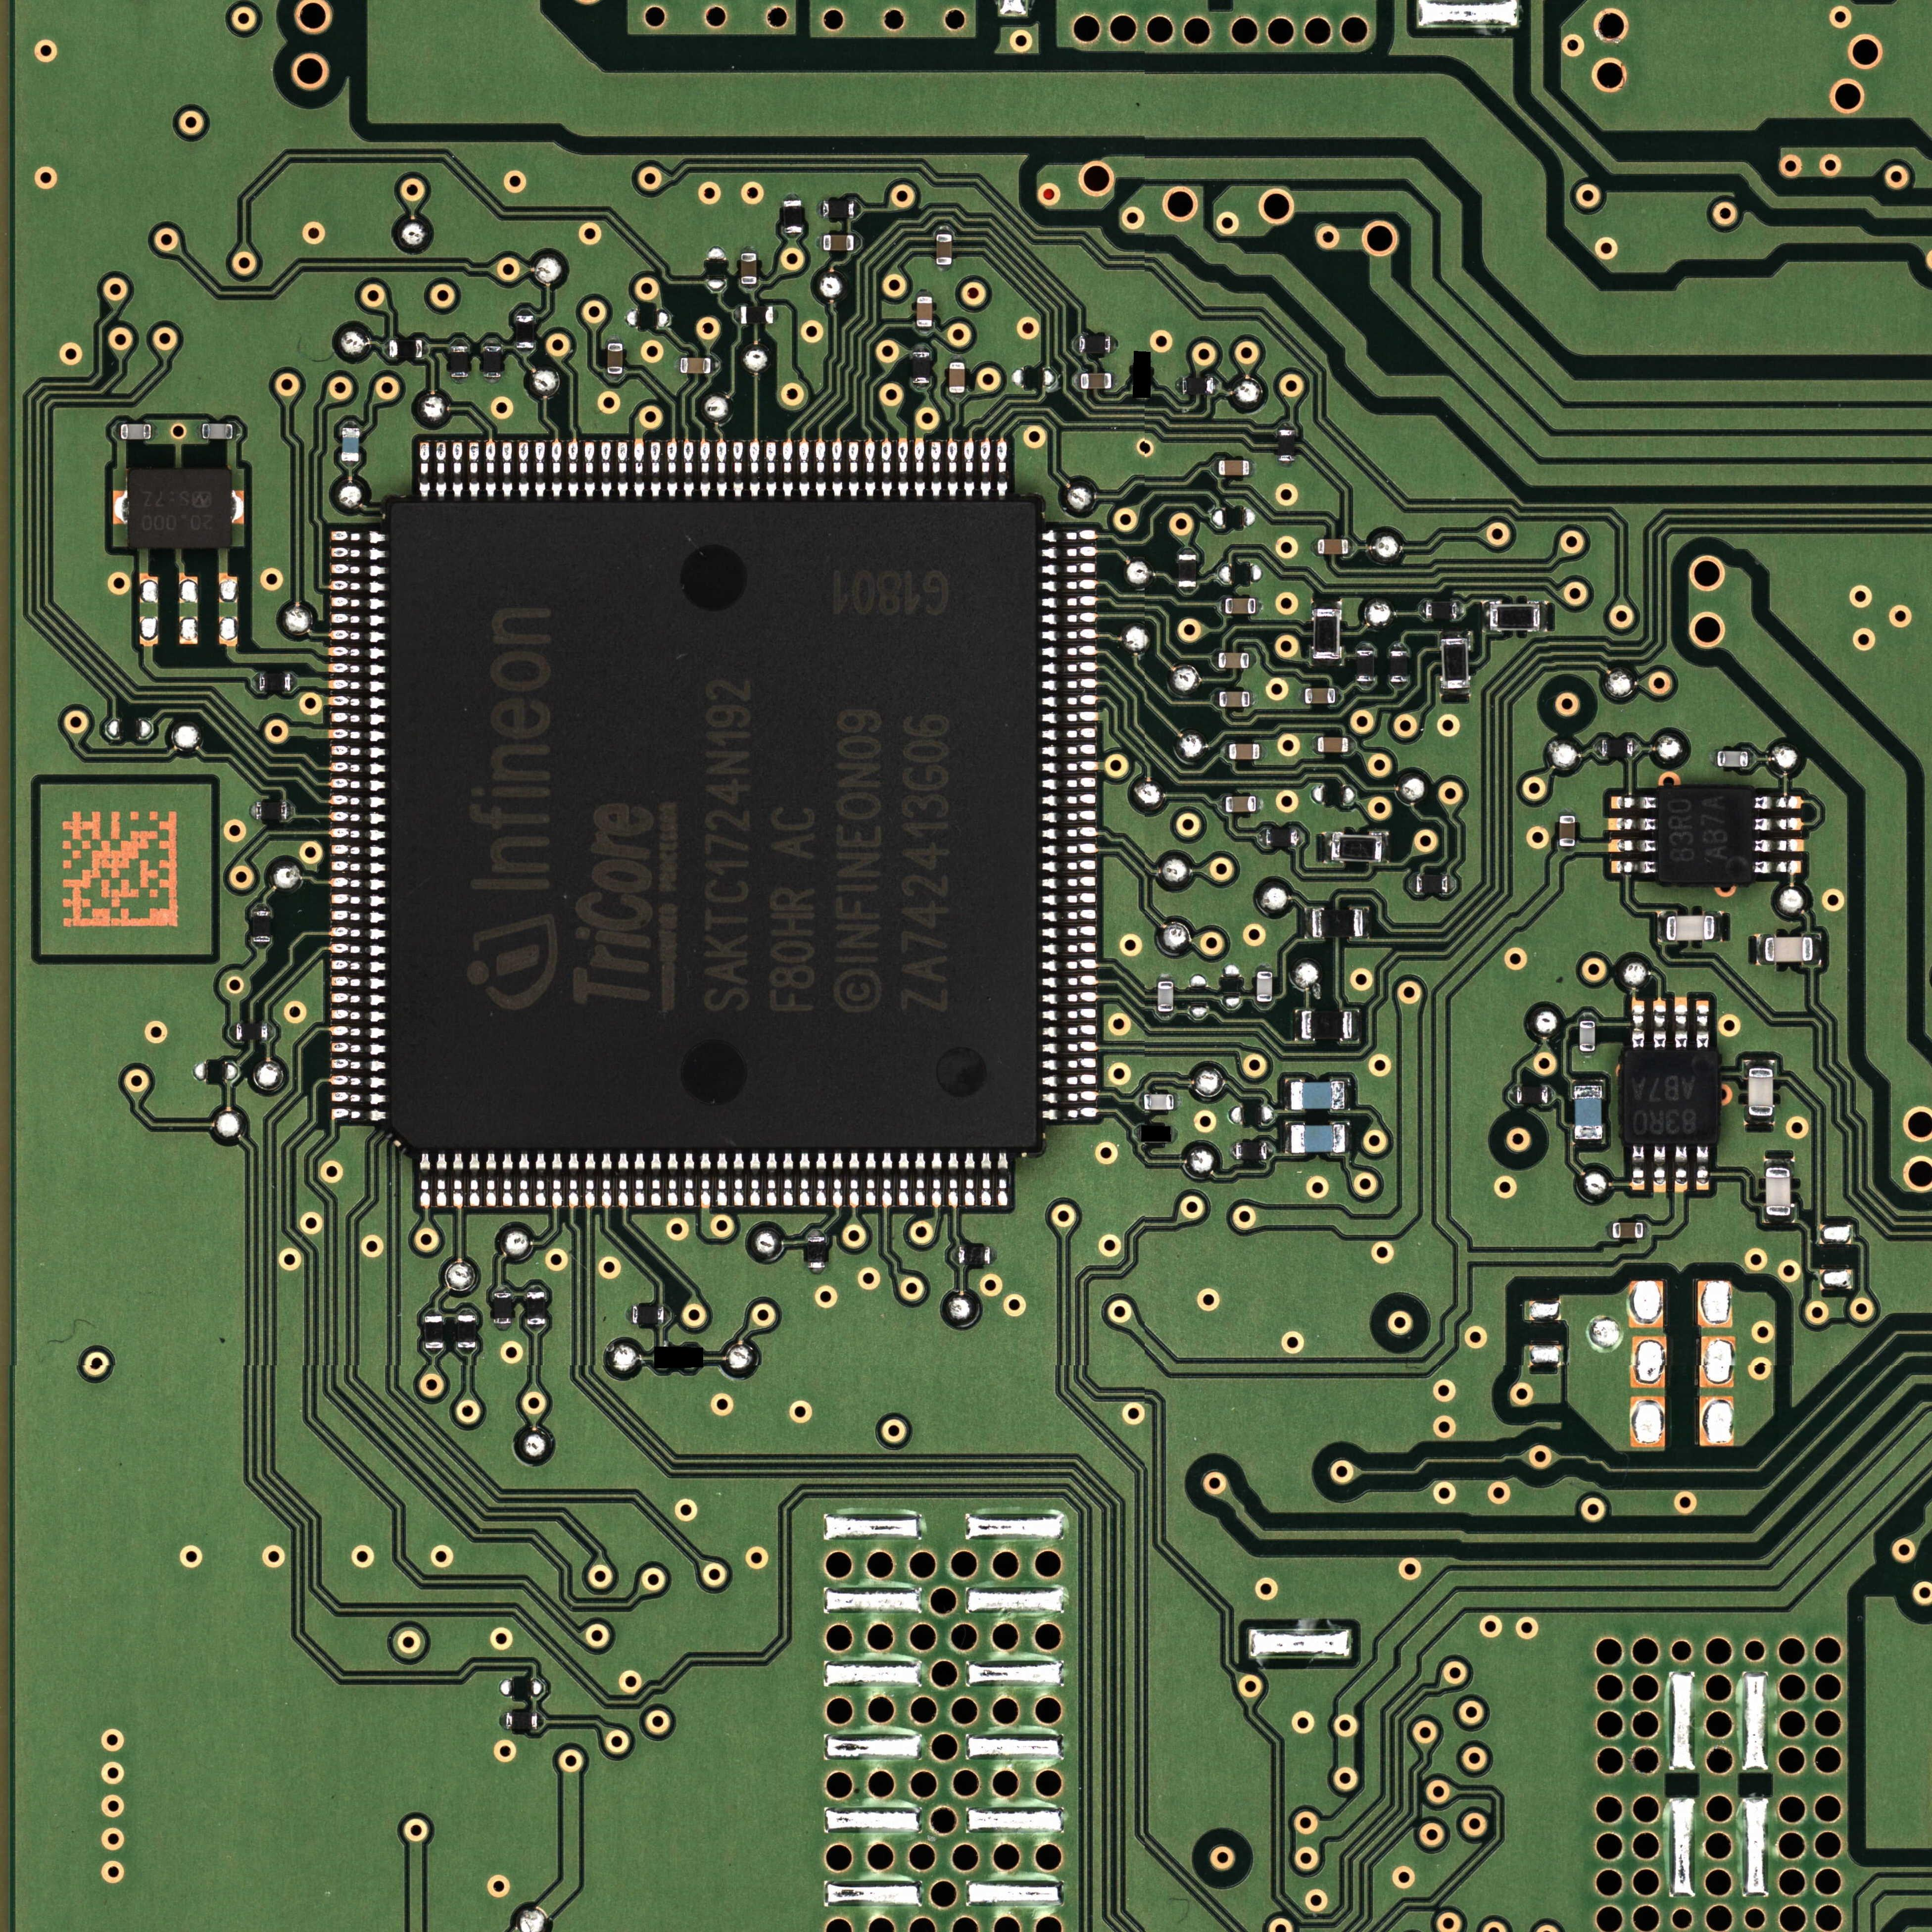Package: (387, 497, 1040, 1150), (1656, 787, 1753, 883), (1622, 1049, 1720, 1145), (127, 469, 232, 548), (1290, 1081, 1345, 1109), (1300, 1010, 1352, 1040), (1292, 1123, 1345, 1152), (1575, 1086, 1601, 1139), (1313, 909, 1362, 938), (1332, 833, 1382, 862), (1490, 603, 1539, 630), (1667, 915, 1714, 941), (1315, 609, 1339, 658), (1442, 639, 1467, 688), (1766, 1168, 1790, 1215), (1764, 938, 1812, 962), (1748, 1069, 1773, 1116), (515, 315, 534, 349), (525, 1292, 545, 1325), (456, 1315, 476, 1348), (1178, 554, 1198, 587), (784, 200, 803, 232), (251, 911, 271, 943), (959, 1246, 991, 1265), (1601, 738, 1633, 757), (1265, 828, 1297, 847), (1235, 1141, 1267, 1161), (341, 428, 359, 462), (389, 340, 423, 357), (740, 306, 773, 324), (483, 347, 502, 377), (449, 347, 469, 377), (913, 352, 931, 384), (255, 801, 287, 819), (258, 674, 290, 692), (425, 1316, 442, 1348), (506, 1713, 538, 1730), (807, 1237, 824, 1269), (1277, 430, 1295, 462), (1182, 377, 1214, 395), (1391, 651, 1408, 683), (1415, 876, 1447, 893), (1426, 602, 1458, 619), (1516, 1086, 1548, 1104), (823, 200, 853, 218), (494, 1293, 511, 1323), (237, 1023, 267, 1040), (633, 1306, 663, 1323), (1357, 651, 1375, 681), (936, 234, 952, 265), (823, 235, 855, 251), (1224, 598, 1256, 614), (1304, 688, 1336, 704), (1612, 1223, 1644, 1238), (202, 423, 232, 439), (607, 343, 623, 373), (916, 297, 932, 327), (681, 357, 711, 373), (741, 253, 757, 283), (1226, 796, 1256, 812), (1219, 653, 1249, 669), (1079, 336, 1109, 352), (1081, 373, 1111, 389), (948, 363, 964, 393), (1718, 750, 1748, 766), (1219, 692, 1249, 708), (1230, 743, 1260, 759), (1219, 460, 1249, 476), (1559, 816, 1575, 846), (1256, 971, 1272, 1001), (1157, 982, 1173, 1012), (1145, 1093, 1173, 1109), (120, 425, 150, 439), (1318, 738, 1348, 752), (1318, 540, 1348, 554), (1580, 1021, 1594, 1051)
Solder: (1042, 1090, 1097, 1104), (1042, 1074, 1097, 1088), (1042, 991, 1097, 1005), (897, 437, 909, 499), (748, 439, 761, 499), (798, 439, 810, 499), (996, 439, 1008, 499), (451, 442, 464, 501), (329, 794, 387, 807), (329, 695, 387, 708), (329, 679, 387, 692), (329, 646, 387, 658), (331, 531, 389, 543), (331, 547, 389, 559), (329, 580, 387, 593), (329, 943, 387, 955), (331, 1092, 389, 1104), (847, 441, 860, 499), (947, 441, 959, 499), (485, 441, 497, 499), (931, 1150, 943, 1208), (331, 844, 387, 856), (331, 893, 387, 906), (331, 596, 387, 609), (331, 1042, 387, 1054), (331, 993, 387, 1005), (633, 1150, 646, 1207), (732, 1150, 745, 1207), (485, 1150, 497, 1207), (881, 1150, 893, 1207), (1040, 909, 1097, 922), (1040, 529, 1097, 541), (1040, 925, 1097, 938), (1040, 547, 1097, 559), (1042, 761, 1097, 773), (1042, 777, 1097, 789), (1042, 860, 1097, 872), (1042, 826, 1097, 839), (1042, 711, 1097, 724), (1042, 678, 1097, 690), (1042, 628, 1097, 640), (1042, 612, 1097, 625), (1042, 596, 1097, 609), (1040, 563, 1095, 575), (1042, 646, 1097, 658), (1042, 579, 1097, 591), (1042, 662, 1097, 674), (980, 1152, 993, 1207), (1042, 1108, 1097, 1120), (1042, 1058, 1097, 1070), (1042, 1042, 1097, 1054), (1042, 1008, 1097, 1021), (1042, 975, 1097, 987), (1042, 959, 1097, 971), (667, 439, 678, 501), (568, 439, 579, 501), (1042, 810, 1095, 823), (1042, 876, 1095, 888), (1042, 727, 1095, 740), (1042, 1024, 1095, 1037), (469, 441, 479, 501), (327, 663, 387, 674), (683, 439, 694, 499), (651, 441, 662, 501), (617, 441, 628, 501), (701, 439, 711, 499), (633, 441, 644, 501), (717, 439, 727, 499), (584, 441, 594, 501), (782, 439, 793, 499), (832, 439, 842, 499), (865, 439, 876, 499), (881, 439, 892, 499), (552, 441, 563, 501), (915, 439, 925, 499), (816, 439, 826, 499), (964, 439, 975, 499), (980, 439, 991, 499), (1631, 1005, 1645, 1049), (1652, 1005, 1667, 1049), (419, 442, 430, 501), (435, 442, 446, 501), (329, 763, 387, 773), (329, 729, 387, 740), (329, 778, 387, 789), (329, 812, 387, 823), (329, 828, 387, 839), (329, 878, 387, 888), (329, 927, 387, 938), (329, 630, 387, 640), (331, 564, 389, 575), (331, 1109, 389, 1120), (453, 1150, 464, 1208), (329, 1026, 387, 1037), (419, 1150, 430, 1208), (602, 442, 612, 501), (732, 441, 743, 499), (766, 441, 777, 499), (534, 442, 545, 501), (518, 442, 529, 501), (931, 441, 941, 499), (701, 1150, 711, 1208), (602, 1150, 612, 1208), (617, 1150, 628, 1208), (586, 1150, 596, 1208), (568, 1150, 579, 1208), (849, 1150, 860, 1208), (833, 1150, 844, 1208), (331, 747, 387, 757), (331, 862, 387, 872), (331, 713, 387, 724), (331, 614, 387, 625), (331, 911, 387, 922), (331, 1076, 387, 1086), (331, 1060, 387, 1070), (331, 1010, 387, 1021), (331, 977, 387, 987), (469, 1150, 479, 1207), (437, 1150, 448, 1207), (331, 961, 387, 971), (502, 442, 513, 499), (667, 1150, 678, 1207), (651, 1150, 662, 1207), (685, 1150, 695, 1207), (750, 1150, 761, 1207), (766, 1150, 777, 1207), (717, 1150, 727, 1207), (782, 1150, 793, 1207), (899, 1150, 909, 1207), (518, 1150, 529, 1207), (915, 1150, 925, 1207), (502, 1150, 513, 1207), (552, 1152, 563, 1208), (800, 1150, 810, 1207), (865, 1150, 876, 1207), (536, 1150, 547, 1207), (816, 1150, 826, 1207), (948, 1152, 959, 1208), (964, 1152, 975, 1207), (1042, 844, 1097, 855), (1040, 893, 1095, 904), (1042, 695, 1097, 706), (998, 1152, 1008, 1207), (1674, 1145, 1688, 1185), (1042, 794, 1095, 805), (1042, 745, 1095, 755), (1042, 943, 1095, 954), (1652, 1145, 1667, 1184), (1675, 1005, 1688, 1049), (1753, 796, 1798, 809), (1753, 817, 1798, 830), (1753, 839, 1798, 851), (1753, 860, 1798, 872), (1697, 1007, 1709, 1049), (1631, 1143, 1644, 1184), (1697, 1145, 1709, 1185), (1617, 796, 1658, 809), (1617, 817, 1658, 830), (1617, 840, 1658, 853), (1617, 862, 1656, 874), (232, 490, 246, 524), (113, 492, 127, 524), (1304, 908, 1313, 939), (1293, 1010, 1302, 1040), (1658, 913, 1667, 943), (1481, 602, 1490, 632), (1440, 688, 1470, 697), (1744, 1060, 1775, 1069), (1744, 1116, 1775, 1125), (1764, 1215, 1794, 1224), (1764, 1159, 1792, 1168), (1352, 1008, 1359, 1042), (1284, 1122, 1292, 1155), (1382, 832, 1389, 863), (1362, 906, 1369, 938), (1325, 832, 1332, 863), (1757, 934, 1764, 966), (1571, 1079, 1603, 1086), (1573, 1139, 1605, 1146), (1311, 602, 1341, 609), (1311, 658, 1341, 665), (1345, 1123, 1352, 1154), (1539, 602, 1546, 632), (1813, 934, 1821, 964), (1714, 913, 1721, 941), (1440, 632, 1468, 639), (248, 801, 257, 821), (1408, 874, 1417, 893), (1284, 1079, 1290, 1111), (1345, 1079, 1350, 1109), (150, 423, 159, 441), (251, 674, 260, 692), (267, 1023, 276, 1040), (711, 356, 720, 373), (1277, 421, 1295, 430), (1357, 642, 1375, 651), (1391, 642, 1408, 651), (1221, 743, 1230, 761), (1256, 962, 1274, 971), (1157, 973, 1175, 982), (1447, 876, 1456, 893), (1709, 750, 1718, 768), (1559, 807, 1576, 816), (1456, 602, 1465, 619), (1578, 1012, 1596, 1021), (1605, 1221, 1614, 1238), (287, 803, 295, 819), (607, 373, 623, 382), (607, 334, 623, 343), (936, 225, 952, 234), (672, 357, 681, 373), (916, 288, 932, 297), (663, 1307, 672, 1323), (1072, 373, 1081, 389), (1210, 460, 1219, 476), (1217, 598, 1226, 614), (1210, 651, 1219, 667), (1249, 692, 1258, 708), (1297, 688, 1306, 704), (1348, 738, 1357, 754), (1132, 1125, 1141, 1141), (1256, 1001, 1272, 1010), (483, 377, 502, 384), (228, 1023, 235, 1042), (456, 1348, 476, 1355), (483, 338, 502, 345), (515, 349, 534, 356), (782, 193, 801, 200), (911, 345, 931, 352), (807, 1230, 826, 1237), (625, 1306, 632, 1325), (1178, 547, 1198, 554), (1177, 587, 1196, 594), (991, 1246, 998, 1265), (113, 423, 120, 441), (451, 338, 469, 345), (234, 423, 241, 441), (341, 421, 359, 428), (382, 340, 389, 357), (423, 340, 430, 357), (341, 462, 359, 469), (451, 377, 469, 384), (253, 904, 271, 911), (253, 943, 271, 950), (425, 1309, 442, 1316), (425, 1348, 442, 1355), (458, 1307, 476, 1315), (517, 308, 534, 315), (855, 234, 862, 251), (855, 200, 862, 218), (816, 200, 823, 218), (732, 306, 740, 324), (773, 306, 780, 324), (948, 393, 966, 400), (952, 1247, 959, 1265), (527, 1284, 545, 1292), (494, 1323, 511, 1330), (494, 1286, 511, 1293), (538, 1713, 545, 1730), (499, 1713, 506, 1730), (1111, 336, 1118, 354), (1214, 377, 1221, 395), (1357, 681, 1375, 688), (1391, 683, 1408, 690), (1258, 830, 1265, 847), (1260, 743, 1267, 761), (1311, 538, 1318, 556), (1171, 1125, 1178, 1143), (1175, 1093, 1182, 1111), (1633, 740, 1640, 757), (1594, 740, 1601, 757), (1748, 750, 1755, 768), (1509, 1086, 1516, 1104), (1548, 1086, 1555, 1104), (195, 423, 202, 439), (290, 674, 297, 690), (741, 246, 757, 253), (816, 235, 823, 251), (936, 265, 952, 272), (948, 356, 964, 363), (916, 327, 932, 334), (809, 1269, 824, 1276), (1072, 336, 1079, 352), (1175, 379, 1182, 395), (1111, 373, 1118, 389), (1249, 460, 1256, 476), (1249, 653, 1256, 669), (1219, 796, 1226, 812), (1212, 692, 1219, 708), (1256, 598, 1263, 614), (1256, 796, 1263, 812), (1297, 830, 1304, 846), (1348, 540, 1355, 556), (1336, 688, 1343, 704), (1419, 602, 1426, 617), (1157, 1012, 1173, 1019), (1138, 1093, 1145, 1109), (1267, 1143, 1274, 1159), (1559, 847, 1575, 855), (1580, 1051, 1596, 1058), (1644, 1223, 1651, 1238), (911, 384, 931, 389), (1279, 462, 1293, 469), (1311, 738, 1318, 752), (784, 234, 801, 239), (527, 1325, 545, 1330), (741, 285, 757, 290), (1230, 1143, 1235, 1159)
